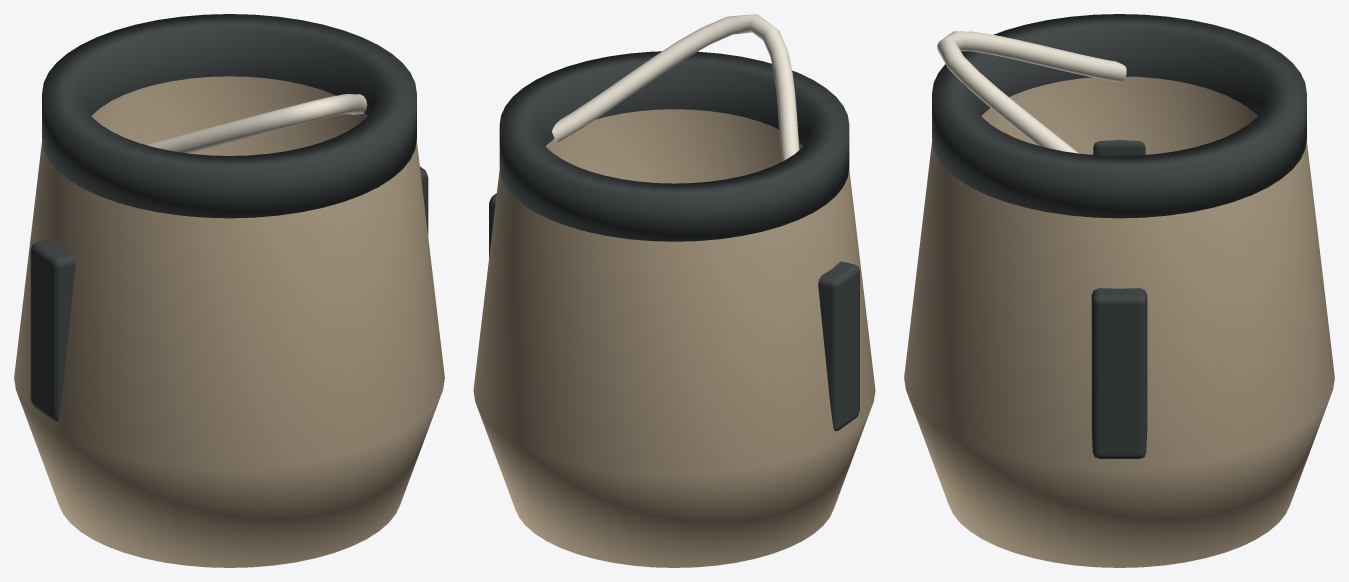
File: indoor-climbing-and-bouldering-gym-indoor-climbing-and-1325ce11__31545.glb
3 renders of one model, left to right at view 1: azimuth 30°, elevation 25°; view 2: azimuth 150°, elevation 25°; view 3: azimuth 270°, elevation 25°, orthographic. The views are drawn at different scales.
Visible parts, largest first — view 1: indoor-climbing-and-bouldering-gym-drawstring-chalk-bag; view 2: indoor-climbing-and-bouldering-gym-drawstring-chalk-bag; view 3: indoor-climbing-and-bouldering-gym-drawstring-chalk-bag.
Boxes of the visible parts, x1,y1,x2,y2 form: indoor-climbing-and-bouldering-gym-drawstring-chalk-bag: (14,14,444,567); indoor-climbing-and-bouldering-gym-drawstring-chalk-bag: (473,14,875,567); indoor-climbing-and-bouldering-gym-drawstring-chalk-bag: (904,14,1334,567).
Bounding box in the file's own units: 0.1712 × 0.1989 × 0.17.
